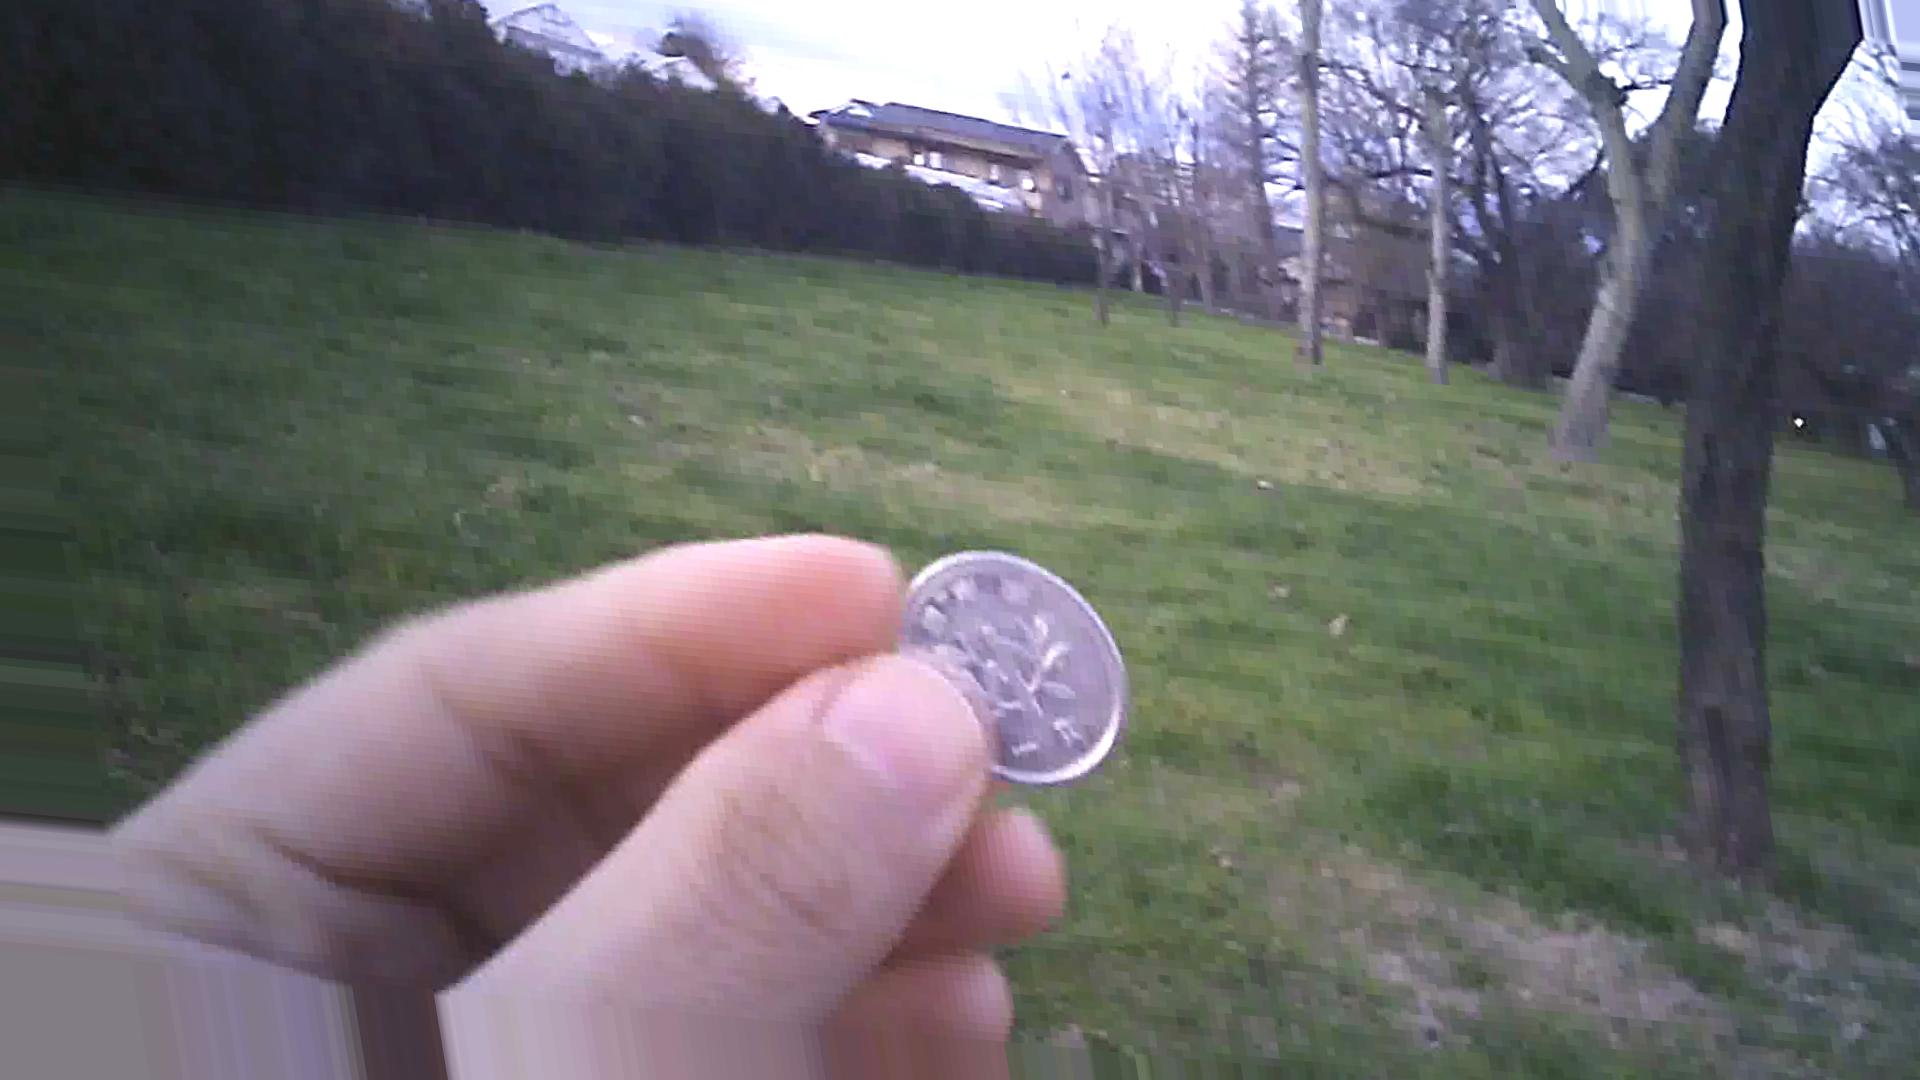1 Yen: (880, 537, 1147, 798)
